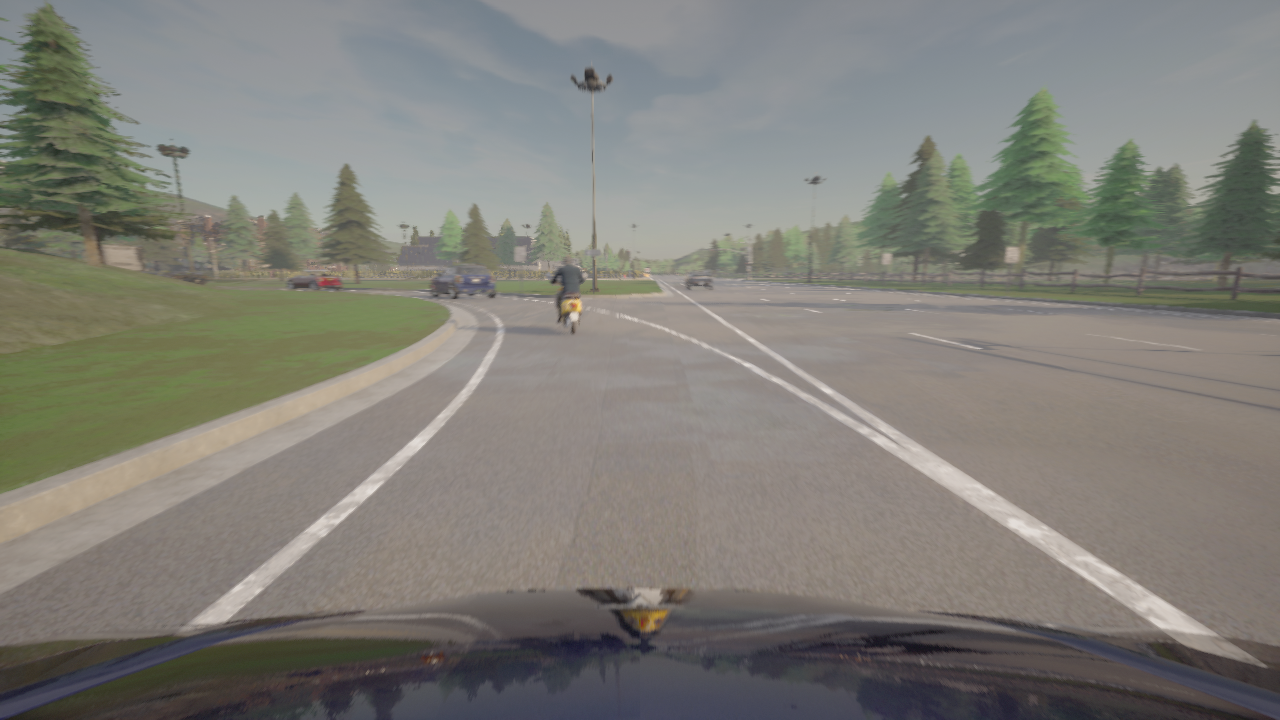cyclist: (0, 588, 1279, 719), (82, 245, 212, 285), (547, 272, 586, 334), (431, 262, 496, 299), (286, 270, 342, 290), (684, 270, 713, 290)
